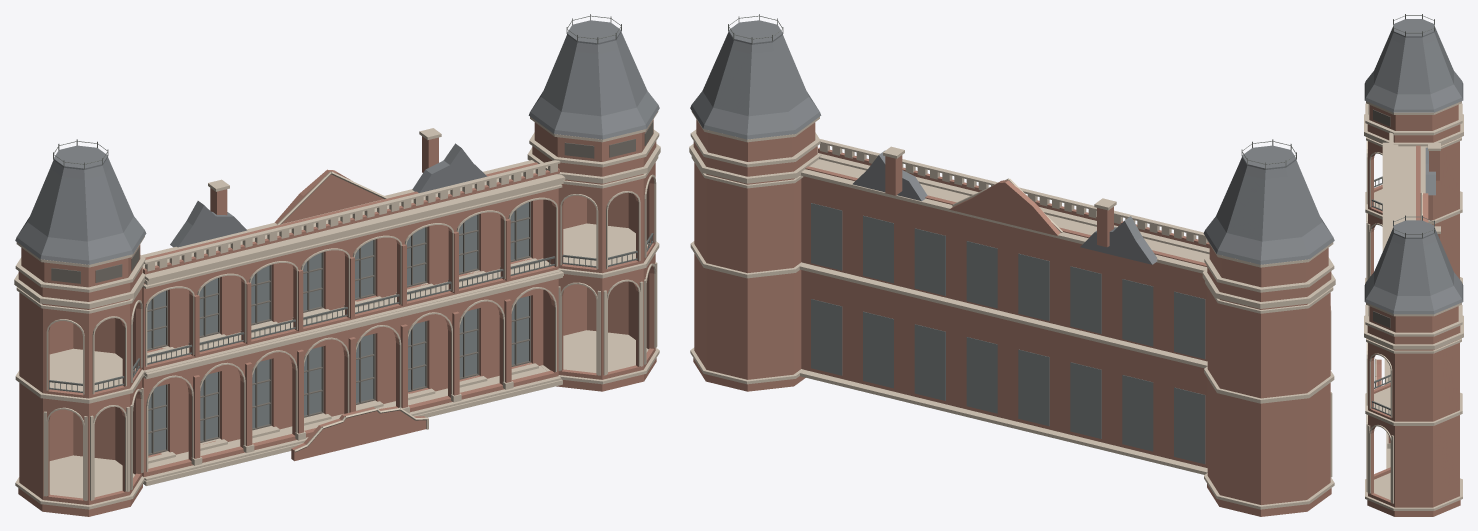
Rendered from jingan-chen-bingqian-historic-residence-lod.glb.
3 views of the same model, side by side, from view 1: azimuth 30°, elevation 25°; view 2: azimuth 150°, elevation 25°; view 3: azimuth 270°, elevation 25° (orthographic). The views are drawn at different scales.
Parts seen in each view (by area): view 1: 陈炳谦宅（原托益住宅）双塔与券廊历史正立面; view 2: 陈炳谦宅（原托益住宅）双塔与券廊历史正立面; view 3: 陈炳谦宅（原托益住宅）双塔与券廊历史正立面.
Part boxes in pixels (left/top/right/bottom): 陈炳谦宅（原托益住宅）双塔与券廊历史正立面: left=14, top=14, right=660, bottom=516; 陈炳谦宅（原托益住宅）双塔与券廊历史正立面: left=689, top=14, right=1335, bottom=516; 陈炳谦宅（原托益住宅）双塔与券廊历史正立面: left=1364, top=14, right=1463, bottom=516.
Bounding box in the file's own units: 38.55 × 20.15 × 6.67.
